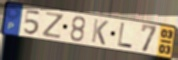5: (22, 9, 42, 36)
7: (140, 23, 158, 54)
8: (70, 15, 87, 43)
K: (90, 17, 110, 46)
L: (116, 22, 134, 50)
Z: (41, 11, 66, 40)
